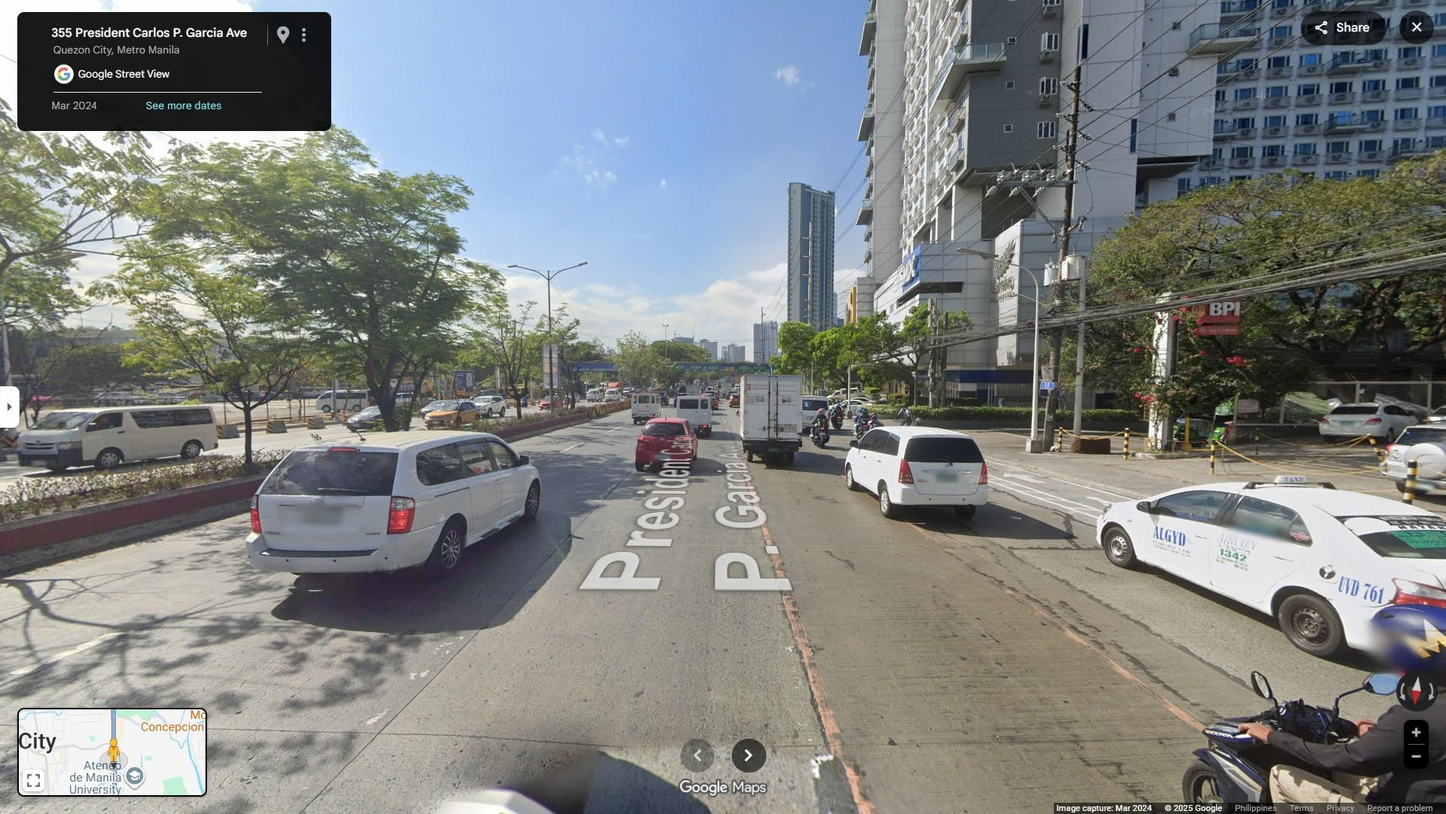pedestrian: (894, 406, 913, 438)
